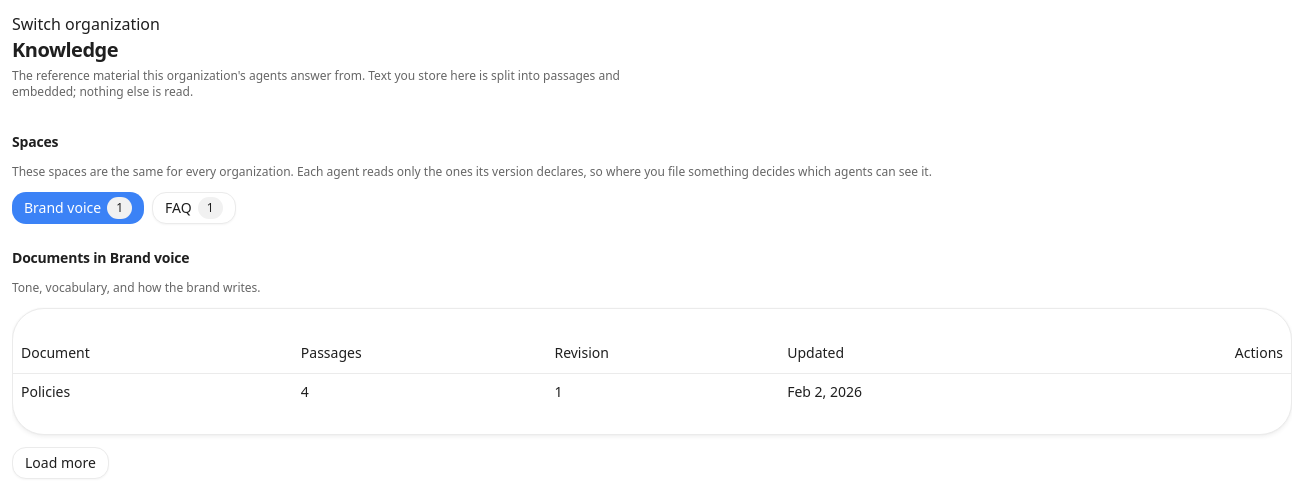
Scenario: knowledge query isolation › cancels a late page on space switching
What coordinates should you click on to do the following:
click the button "Load more"
I would click on:
 (60, 462)
Its box is [12, 446, 109, 478].
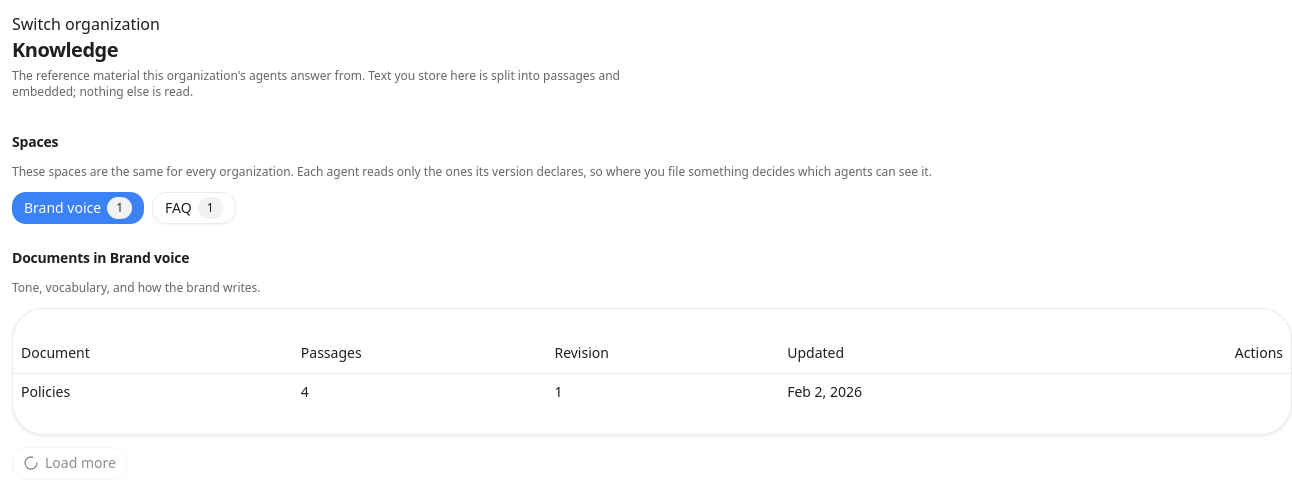
What coordinates should you click on to do the following:
click the button "FAQ 1"
I would click on:
 (194, 208)
Its box is [152, 192, 236, 224].
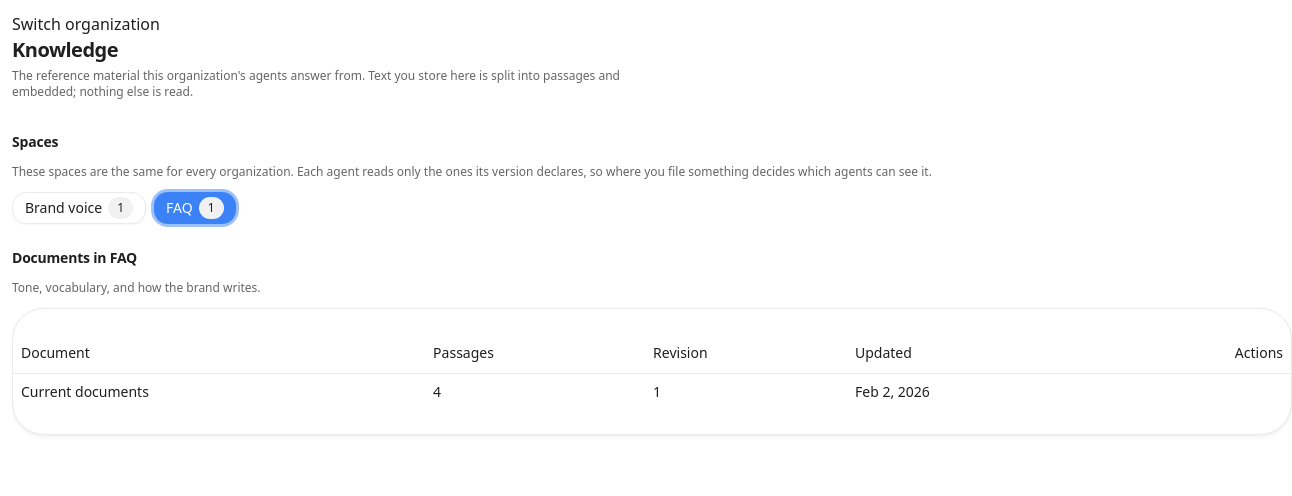
expect the text "Current documents" is shown: met, box [21, 382, 149, 400]
expect the button "Load more" is gone: met
